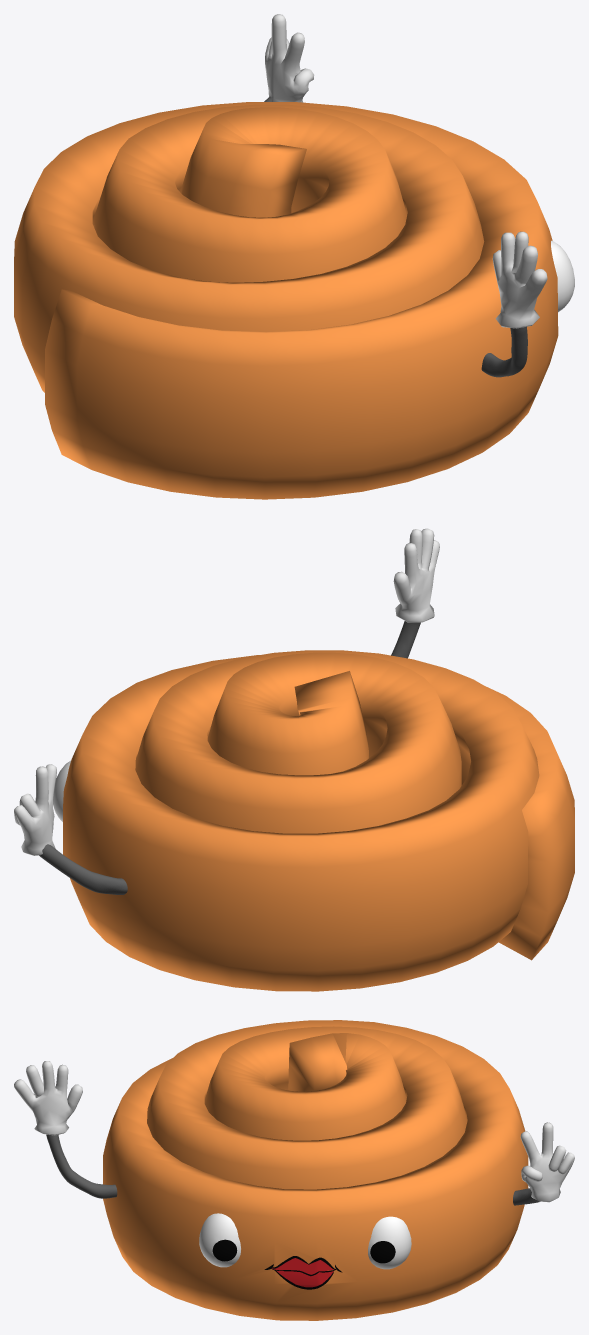
Rendered from canelita.glb.
3 renders of one model, top to bottom at view 1: azimuth 30°, elevation 25°; view 2: azimuth 150°, elevation 25°; view 3: azimuth 270°, elevation 25°, orthographic. The views are drawn at different scales.
Visible parts, largest first — view 1: Cube, Left Hand, Right Hand, Left Arm, Right Eye; view 2: Cube, Left Hand, Right Hand, Right Arm, Left Arm; view 3: Cube, Left Hand, Right Hand, Left Eye, Right Eye, Left Arm.
Part boxes in pixels (x1,y1,x2,y2): Cube: [14, 102, 558, 499]; Left Hand: [492, 231, 547, 328]; Right Hand: [265, 14, 314, 102]; Left Arm: [481, 326, 527, 377]; Right Eye: [551, 240, 574, 312]; Cube: [63, 650, 574, 991]; Left Hand: [393, 528, 439, 622]; Right Hand: [14, 764, 56, 855]; Right Arm: [39, 844, 127, 894]; Left Arm: [391, 621, 420, 658]; Cube: [103, 1020, 528, 1320]; Left Hand: [14, 1061, 82, 1135]; Right Hand: [520, 1122, 574, 1202]; Left Eye: [368, 1216, 411, 1269]; Right Eye: [199, 1213, 240, 1267]; Left Arm: [46, 1134, 117, 1198].
Size of the model in its own units: 3.22 by 1.74 by 4.18.
